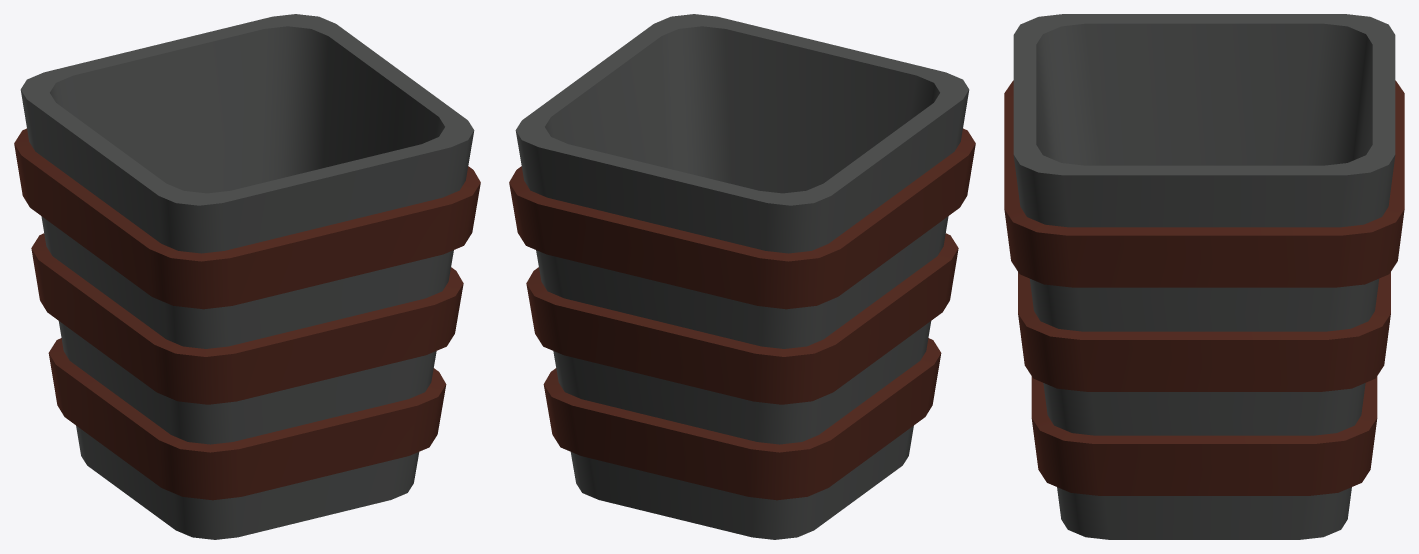
The model's file is Cop.fbx.
The picture shows the model from 3 angles, left to right: view 1: azimuth 30°, elevation 25°; view 2: azimuth 150°, elevation 25°; view 3: azimuth 270°, elevation 25°; orthographic projection. The views are drawn at different scales.
Visible parts, largest first — view 1: CopKovası; view 2: CopKovası; view 3: CopKovası.
Boxes of the visible parts, left/top/right/bottom form: CopKovası: left=14, top=14, right=480, bottom=539; CopKovası: left=509, top=14, right=975, bottom=539; CopKovası: left=1004, top=14, right=1404, bottom=539.
Size of the model in its own units: 83.87 by 88.94 by 83.87.
